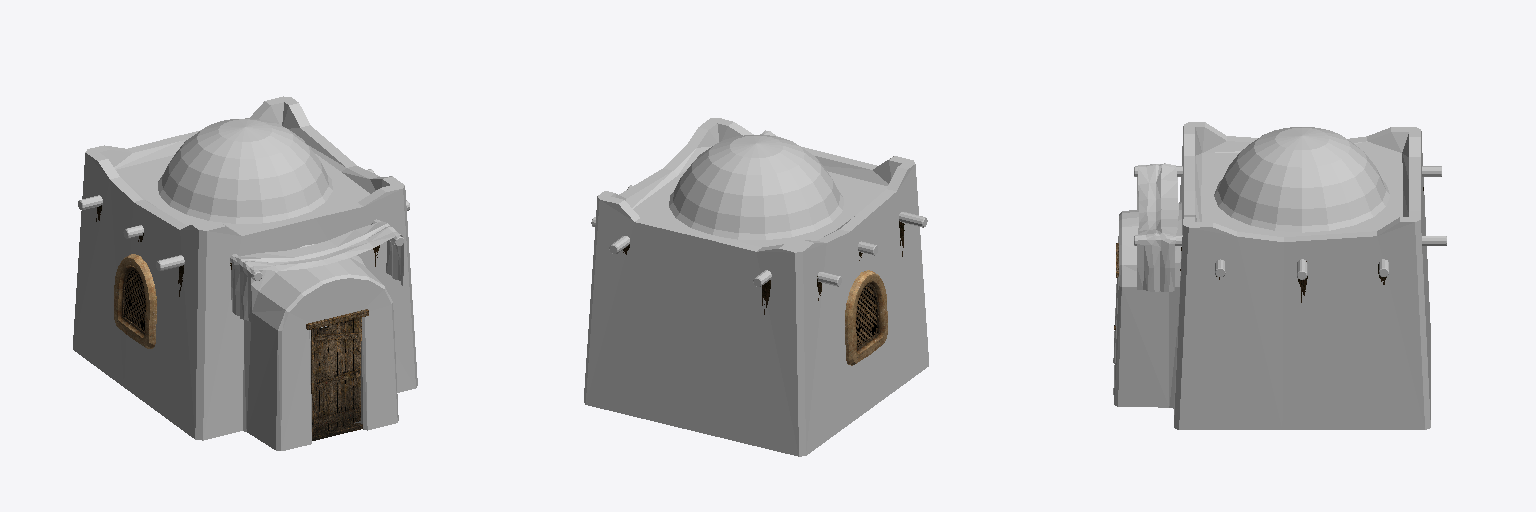
3 renders of one model, left to right at view 1: azimuth 30°, elevation 25°; view 2: azimuth 150°, elevation 25°; view 3: azimuth 270°, elevation 25°, orthographic.
Visible parts, largest first — view 1: Object_2, Object_4, Object_5; view 2: Object_2, Object_5; view 3: Object_2.
Boxes of the visible parts, box(x1,y1,x2,y2) form: Object_2: box(73, 96, 417, 450); Object_4: box(306, 309, 368, 440); Object_5: box(114, 254, 156, 348); Object_2: box(584, 118, 928, 456); Object_5: box(845, 270, 887, 365); Object_2: box(1113, 122, 1446, 429).
Bounding box in the file's own units: 4.47 × 4.04 × 5.05.
4 materials, 3 textured.